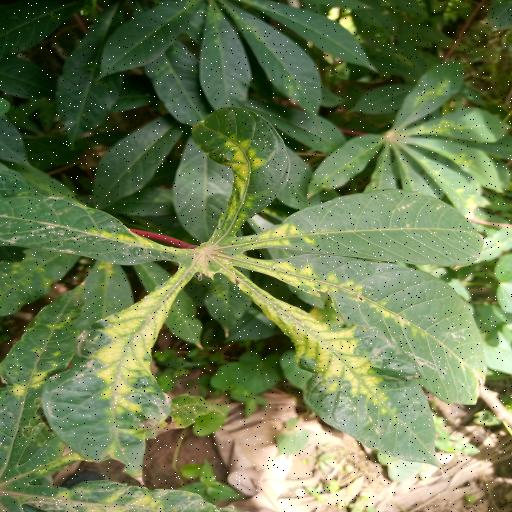Cassava_Mosaic: (6, 105, 492, 470), (303, 57, 512, 228), (93, 0, 381, 114)
